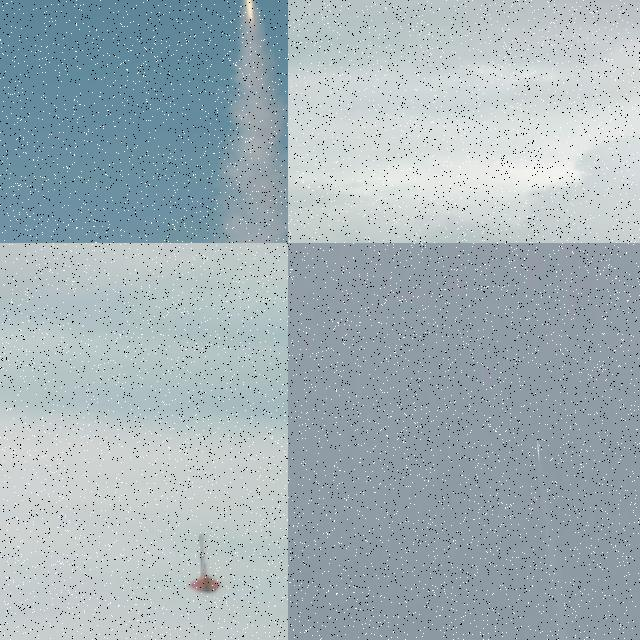Rocket: (188, 532, 222, 594), (536, 438, 540, 460)
